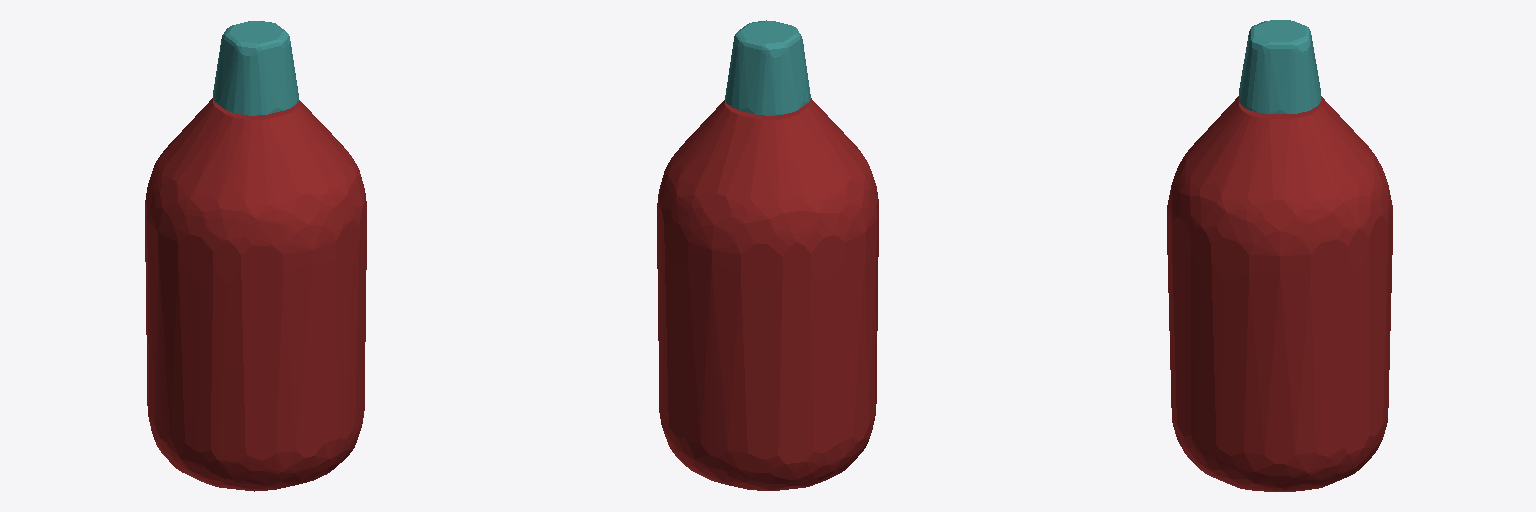
URDF robot description (root):
<robot name="root">
  <link name="bottle_body">
    <inertial>
      <origin xyz="0 0 0" rpy="0 0 0"/>
    </inertial>
    <mass value="1.00E-02"/>
    <visual>
      <origin xyz="0 0 0" rpy="0 0 0"/>
      <geometry>
        <mesh filename="core-bottle-bb46957091f2a282cfdfe3f21f42a111-coacd_convex_piece_1.obj" scale="1.0000E-01 1.0000E-01 1.0000E-01"/>
      </geometry>
      <material name="">
        <color rgba="6.00E-01 2.00E-01 2.00E-01 1"/>
      </material>
    </visual>
    <collision>
      <origin xyz="0 0 0" rpy="0 0 0"/>
      <geometry>
        <mesh filename="core-bottle-bb46957091f2a282cfdfe3f21f42a111-coacd_convex_piece_1.obj" scale="1.0000E-01 1.0000E-01 1.0000E-01"/>
      </geometry>
    </collision>
  </link>
  <link name="bottle_cap">
    <origin xyz="0 0 0.002" rpy="0 0 0"/>
    <mass value="1.00E-02"/>
    <visual>
      <origin xyz="0 0 0.002" rpy="0 0 0"/>
      <geometry>
        <mesh filename="core-bottle-bb46957091f2a282cfdfe3f21f42a111-coacd_convex_piece_0.obj" scale="1.0000E-01 1.0000E-01 1.0000E-01"/>
      </geometry>
      <material name="">
        <color rgba="3.00E-01 6.00E-01 6.00E-01 1"/>
      </material>
    </visual>
    <collision>
      <origin xyz="0 0 0.002" rpy="0 0 0"/>
      <geometry>
        <mesh filename="core-bottle-bb46957091f2a282cfdfe3f21f42a111-coacd_convex_piece_0.obj" scale="1.0000E-01 1.0000E-01 1.0000E-01"/>
      </geometry>
    </collision>
  </link>
  <joint name="bottle_cap_joint" type="revolute">
    <origin xyz="0 0 0" rpy="0 0 0"/>
    <parent link="bottle_body"/>
    <child link="bottle_cap"/>
    <axis xyz="0 0 1"/>
    <limit lower="0.00" upper="6.28"/>
    <dynamics damping="0.05"/>
  </joint>
</robot>

--- What the picture shows (computed from the rendered views, not written in the file) ---
3 views of the same robot in one strip: view 1: azimuth 30°, elevation 25°; view 2: azimuth 150°, elevation 25°; view 3: azimuth 270°, elevation 25° (orthographic).
Robot: root — 2 links, 1 joints (1 revolute); root link bottle_body; default pose: all joints at 0.
Links seen in each view (by area): view 1: bottle_body, bottle_cap; view 2: bottle_body, bottle_cap; view 3: bottle_body, bottle_cap.
Boxes of the visible links, x1,y1,x2,y2 form: bottle_body: (145, 98, 366, 491); bottle_cap: (213, 21, 298, 115); bottle_body: (657, 98, 878, 490); bottle_cap: (725, 20, 810, 115); bottle_body: (1167, 96, 1392, 491); bottle_cap: (1239, 20, 1320, 113).
Size in the robot's own frame: 0.0914 by 0.0914 by 0.193 metres.
Meshes: 2 distinct files referenced, 2 mesh visuals loaded (2 OBJ).